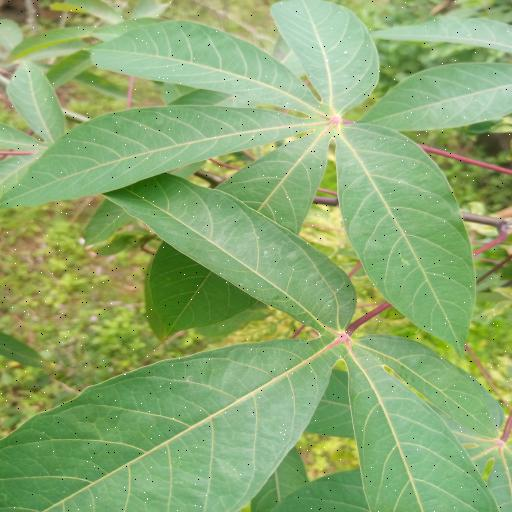Cassava_Healthy: (3, 170, 512, 512), (11, 1, 512, 343)
